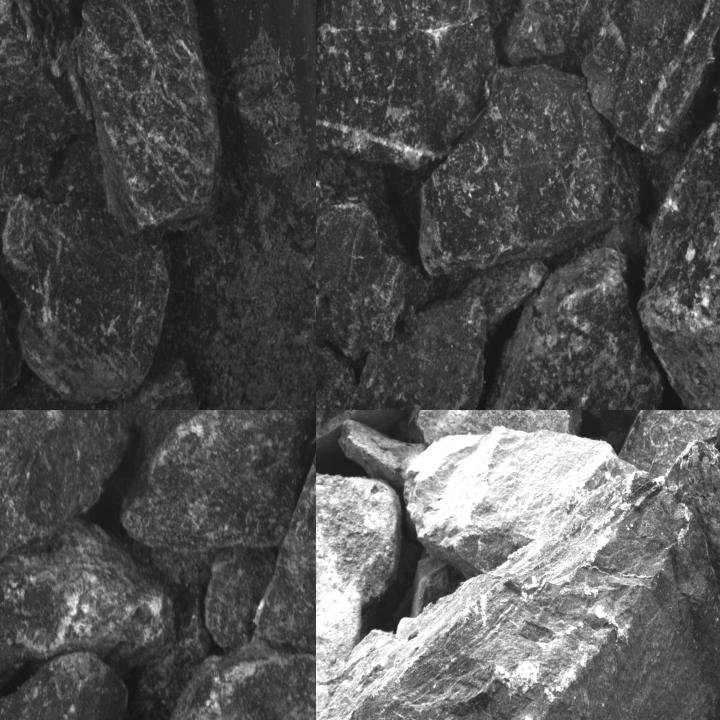stone: (316, 470, 719, 719), (420, 62, 645, 299), (0, 135, 171, 405), (475, 0, 719, 157), (0, 517, 175, 719), (75, 0, 225, 234), (637, 0, 719, 409), (475, 246, 680, 409), (338, 259, 553, 409), (403, 429, 617, 577), (316, 0, 499, 172), (0, 410, 167, 580), (121, 410, 315, 554), (316, 172, 436, 361), (316, 471, 403, 719), (0, 0, 96, 213), (157, 641, 315, 719), (0, 651, 128, 719), (206, 549, 256, 652), (118, 357, 199, 409)
